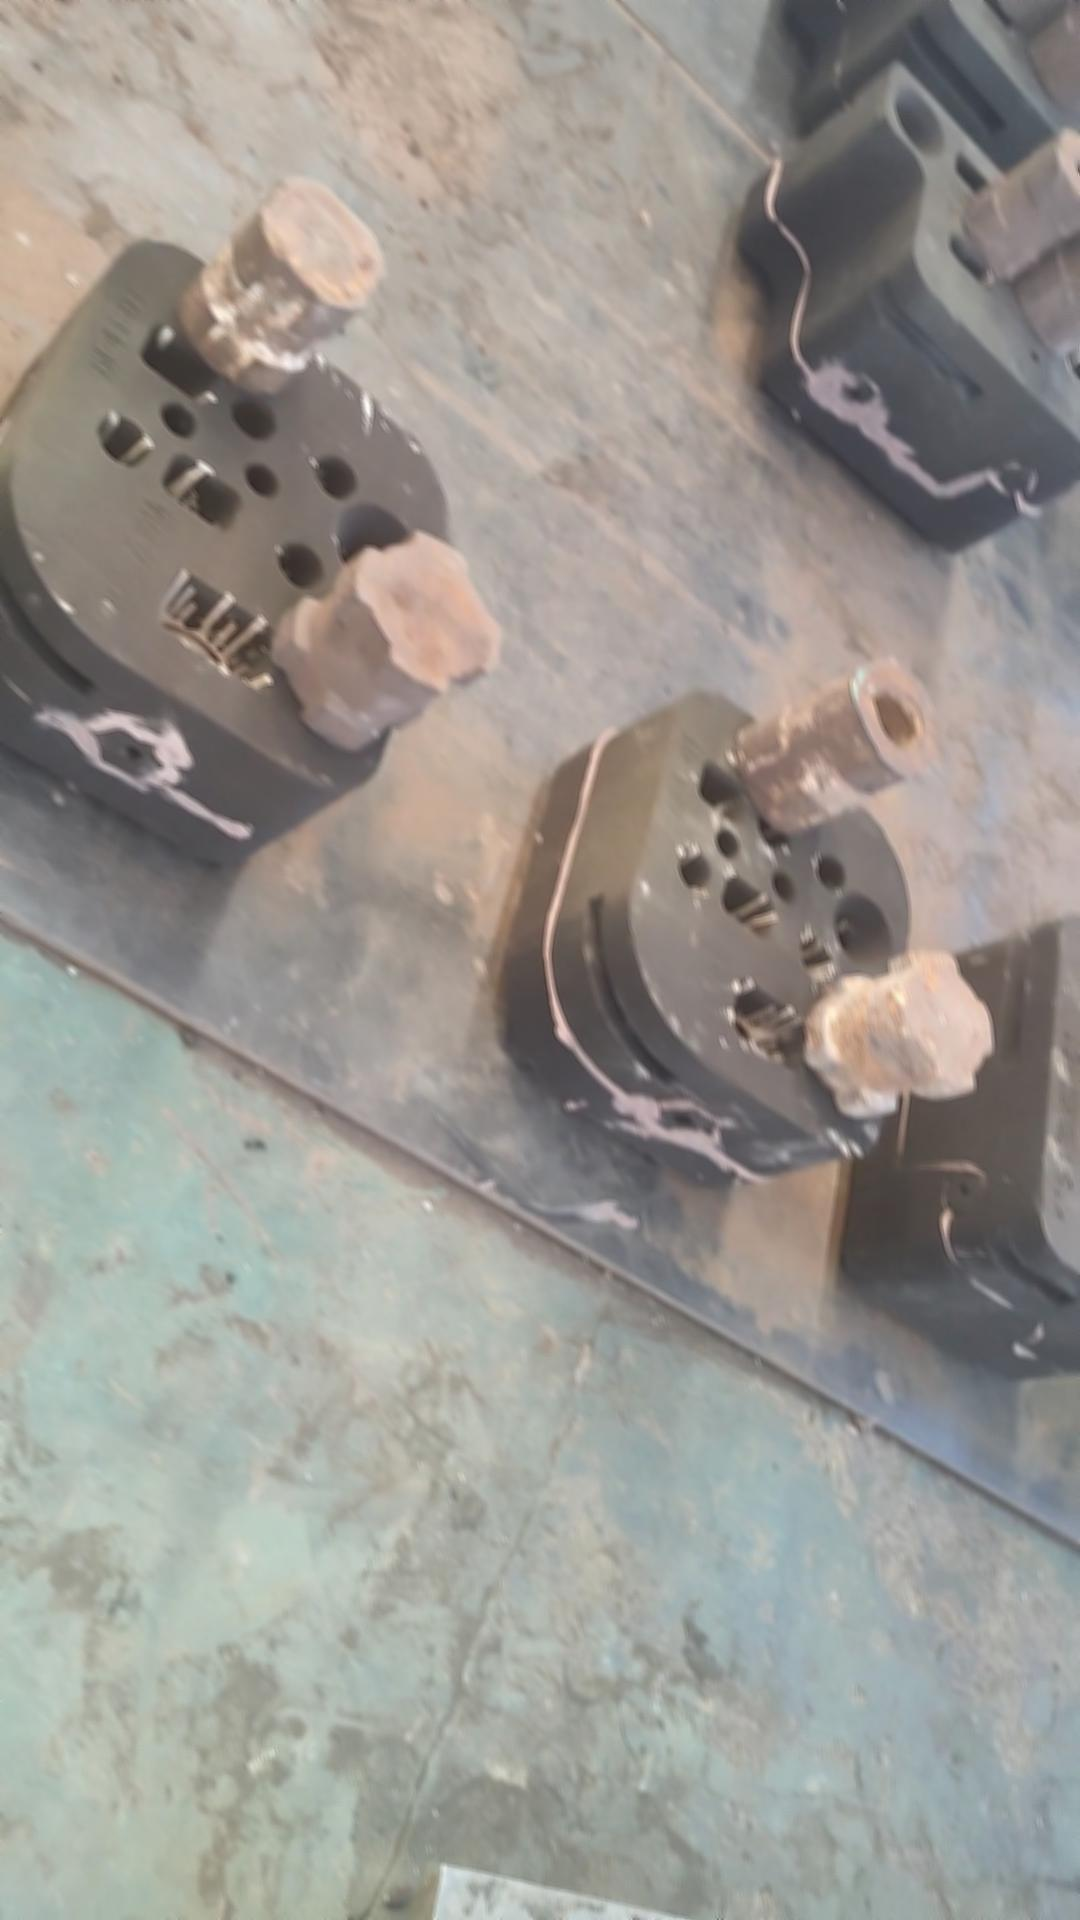pouring hole: (335, 501, 419, 588), (832, 890, 891, 975), (891, 84, 948, 161)
